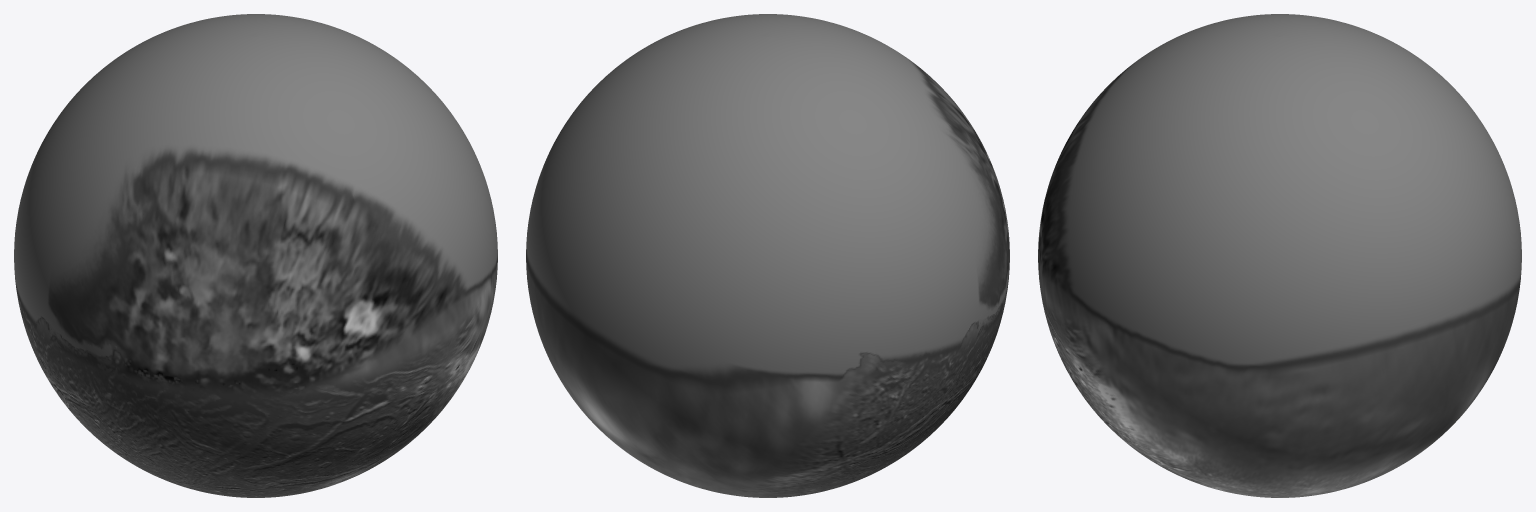
Rendered from moonariel.glb.
The picture shows the model from 3 angles, left to right: view 1: azimuth 30°, elevation 25°; view 2: azimuth 150°, elevation 25°; view 3: azimuth 270°, elevation 25°; orthographic projection.
Visible parts, largest first — view 1: cylindrically_mapped_sphere; view 2: cylindrically_mapped_sphere; view 3: cylindrically_mapped_sphere.
Part boxes in pixels (left/top/right/bottom): cylindrically_mapped_sphere: left=14, top=14, right=497, bottom=497; cylindrically_mapped_sphere: left=526, top=14, right=1009, bottom=497; cylindrically_mapped_sphere: left=1038, top=14, right=1521, bottom=497.
Bounding box in the file's own units: 1000 × 1000 × 1000.
1 material, 1 textured.
